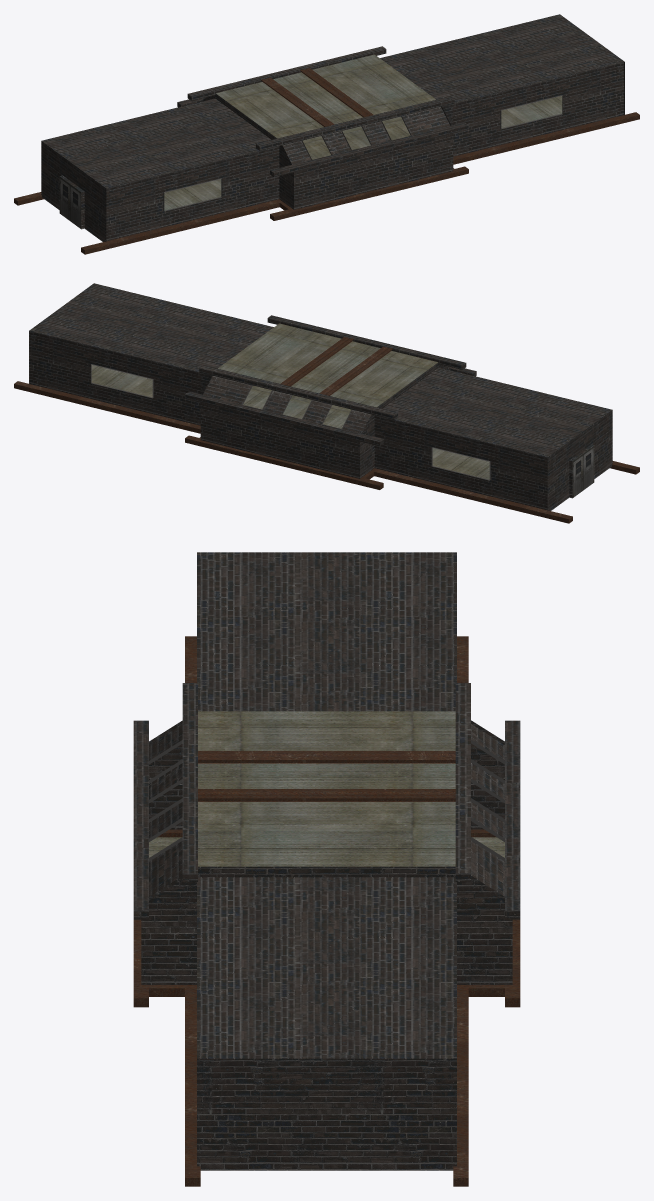
Rendered from devroom.glb.
3 renders of one model, top to bottom at view 1: azimuth 30°, elevation 25°; view 2: azimuth 150°, elevation 25°; view 3: azimuth 270°, elevation 25°, orthographic. The views are drawn at different scales.
Parts seen in each view (by area): view 1: Plane-col; view 2: Plane-col; view 3: Plane-col.
Boxes of the visible parts, box(x1,y1,x2,y2) form: Plane-col: box(14, 14, 639, 254); Plane-col: box(14, 283, 639, 523); Plane-col: box(133, 552, 520, 1186).
Size of the model in its own units: 66.27 by 7.53 by 20.
Materials: 4 (4 with a texture image).
